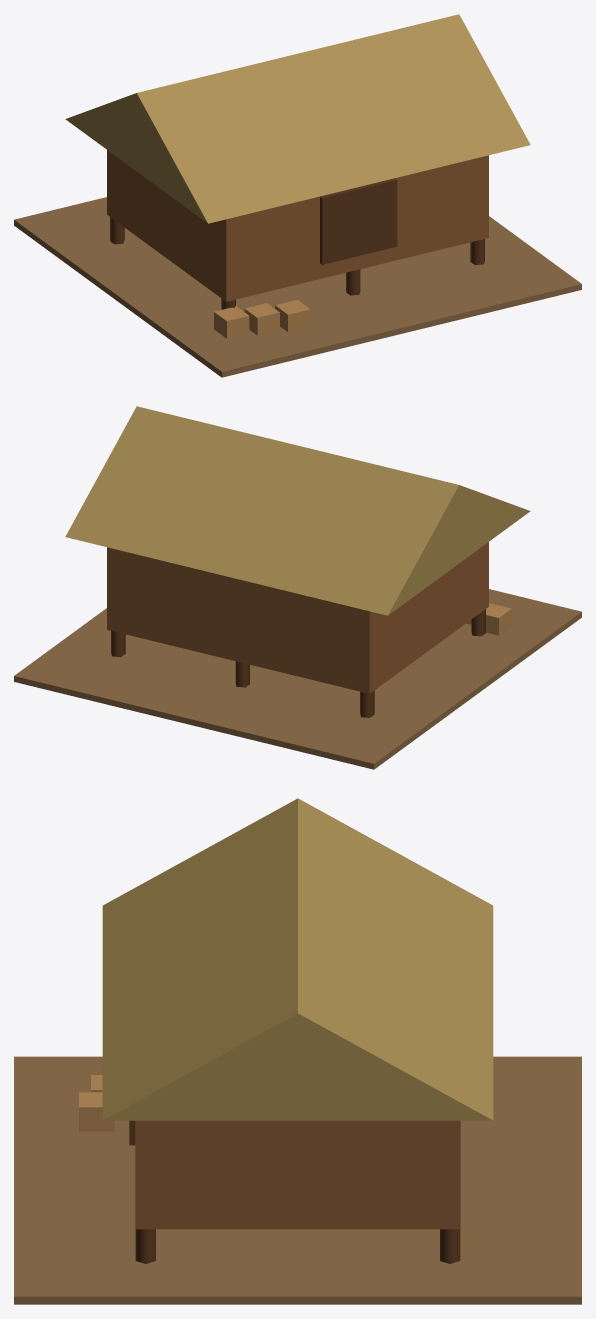
The model's file is building_gudang.glb.
The picture shows the model from 3 angles, top to bottom: view 1: azimuth 30°, elevation 25°; view 2: azimuth 150°, elevation 25°; view 3: azimuth 270°, elevation 25°; orthographic projection. The views are drawn at different scales.
Parts seen in each view (by area): view 1: building_gudang; view 2: building_gudang; view 3: building_gudang.
Part boxes in pixels (box(x1,y1,x2,y2)): building_gudang: box(14, 14, 581, 377); building_gudang: box(14, 406, 581, 769); building_gudang: box(14, 798, 581, 1304).
Size of the model in its own units: 0.96 by 0.52 by 0.96.
